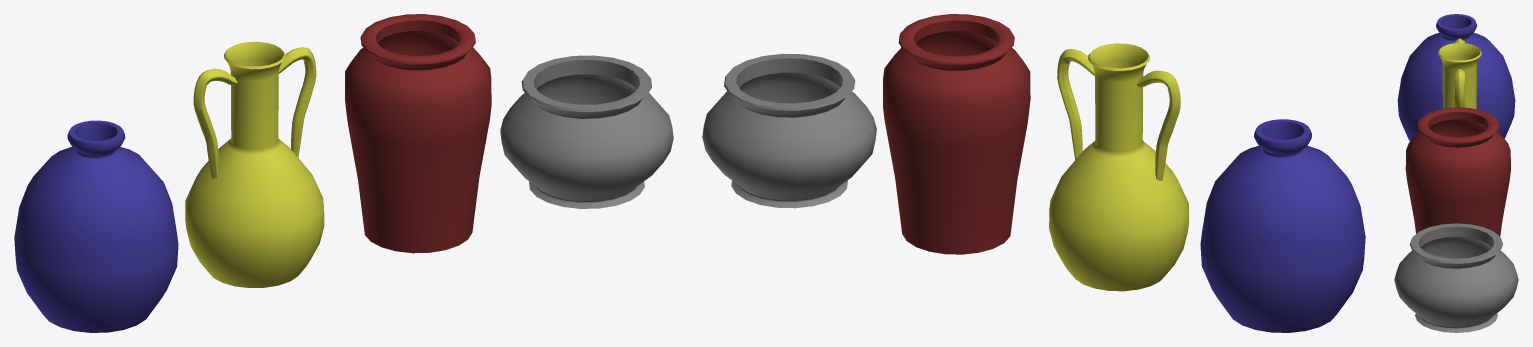
3 views of the same model, side by side, from view 1: azimuth 30°, elevation 25°; view 2: azimuth 150°, elevation 25°; view 3: azimuth 270°, elevation 25° (orthographic). The views are drawn at different scales.
Visible parts, largest first — view 1: pCylinder1, pCylinder4, pCylinder7, pCylinder2; view 2: pCylinder1, pCylinder4, pCylinder7, pCylinder2; view 3: pCylinder1, pCylinder2, pCylinder4, pCylinder7.
Part boxes in pixels (box(x1,y1,x2,y2)): pCylinder1: box(345, 14, 491, 253); pCylinder4: box(14, 120, 178, 332); pCylinder7: box(185, 41, 324, 287); pCylinder2: box(500, 55, 673, 208); pCylinder1: box(883, 14, 1030, 254); pCylinder4: box(1200, 119, 1365, 332); pCylinder7: box(1049, 43, 1188, 291); pCylinder2: box(702, 53, 876, 208); pCylinder1: box(1405, 107, 1510, 236); pCylinder2: box(1394, 223, 1518, 332); pCylinder4: box(1397, 14, 1515, 140); pCylinder7: box(1437, 38, 1481, 109).
Bounding box in the file's own units: 46.85 × 15.1 × 11.1.
